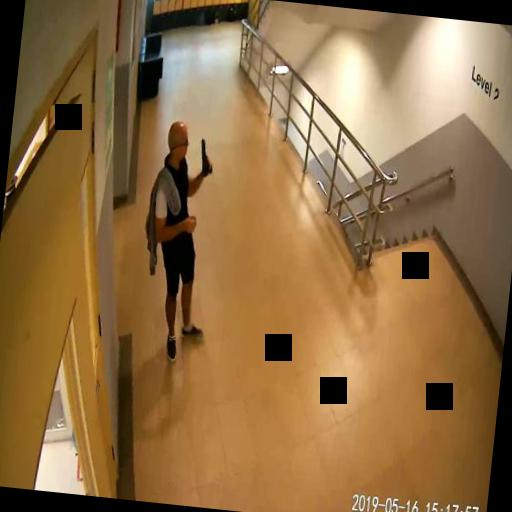Handgun: (196, 136, 214, 174)
